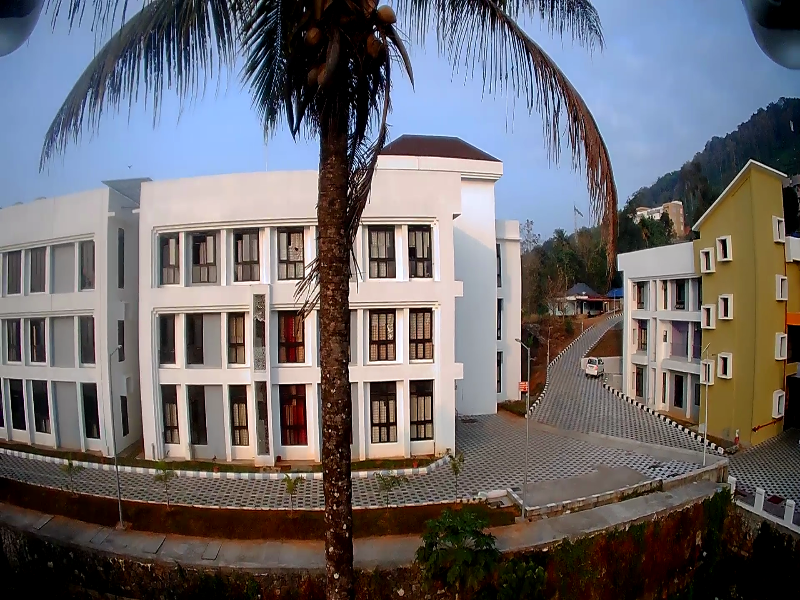coconut: (376, 7, 397, 27), (363, 36, 381, 58), (305, 62, 321, 86), (301, 25, 319, 46)
